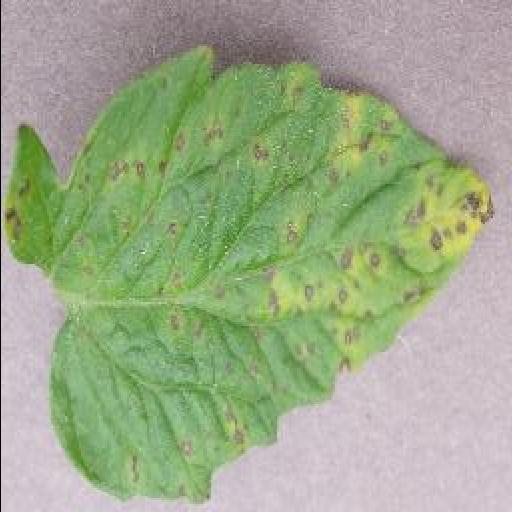disease_tomato: (0, 48, 492, 506)
